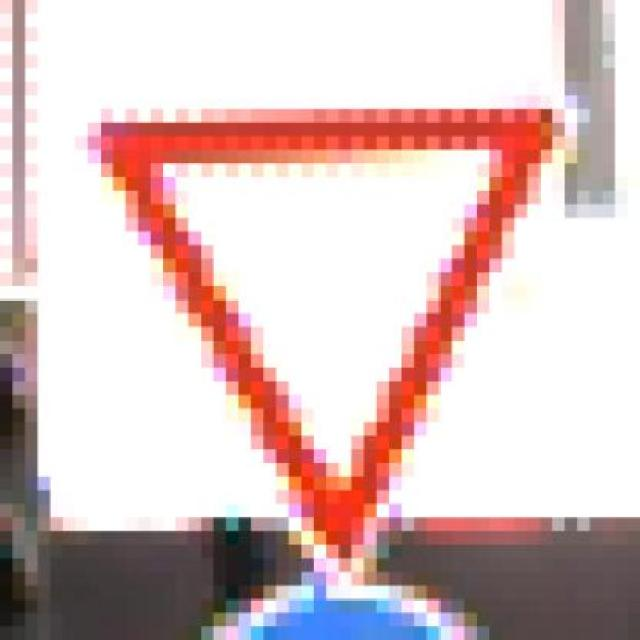Give Way: (75, 82, 616, 600)
